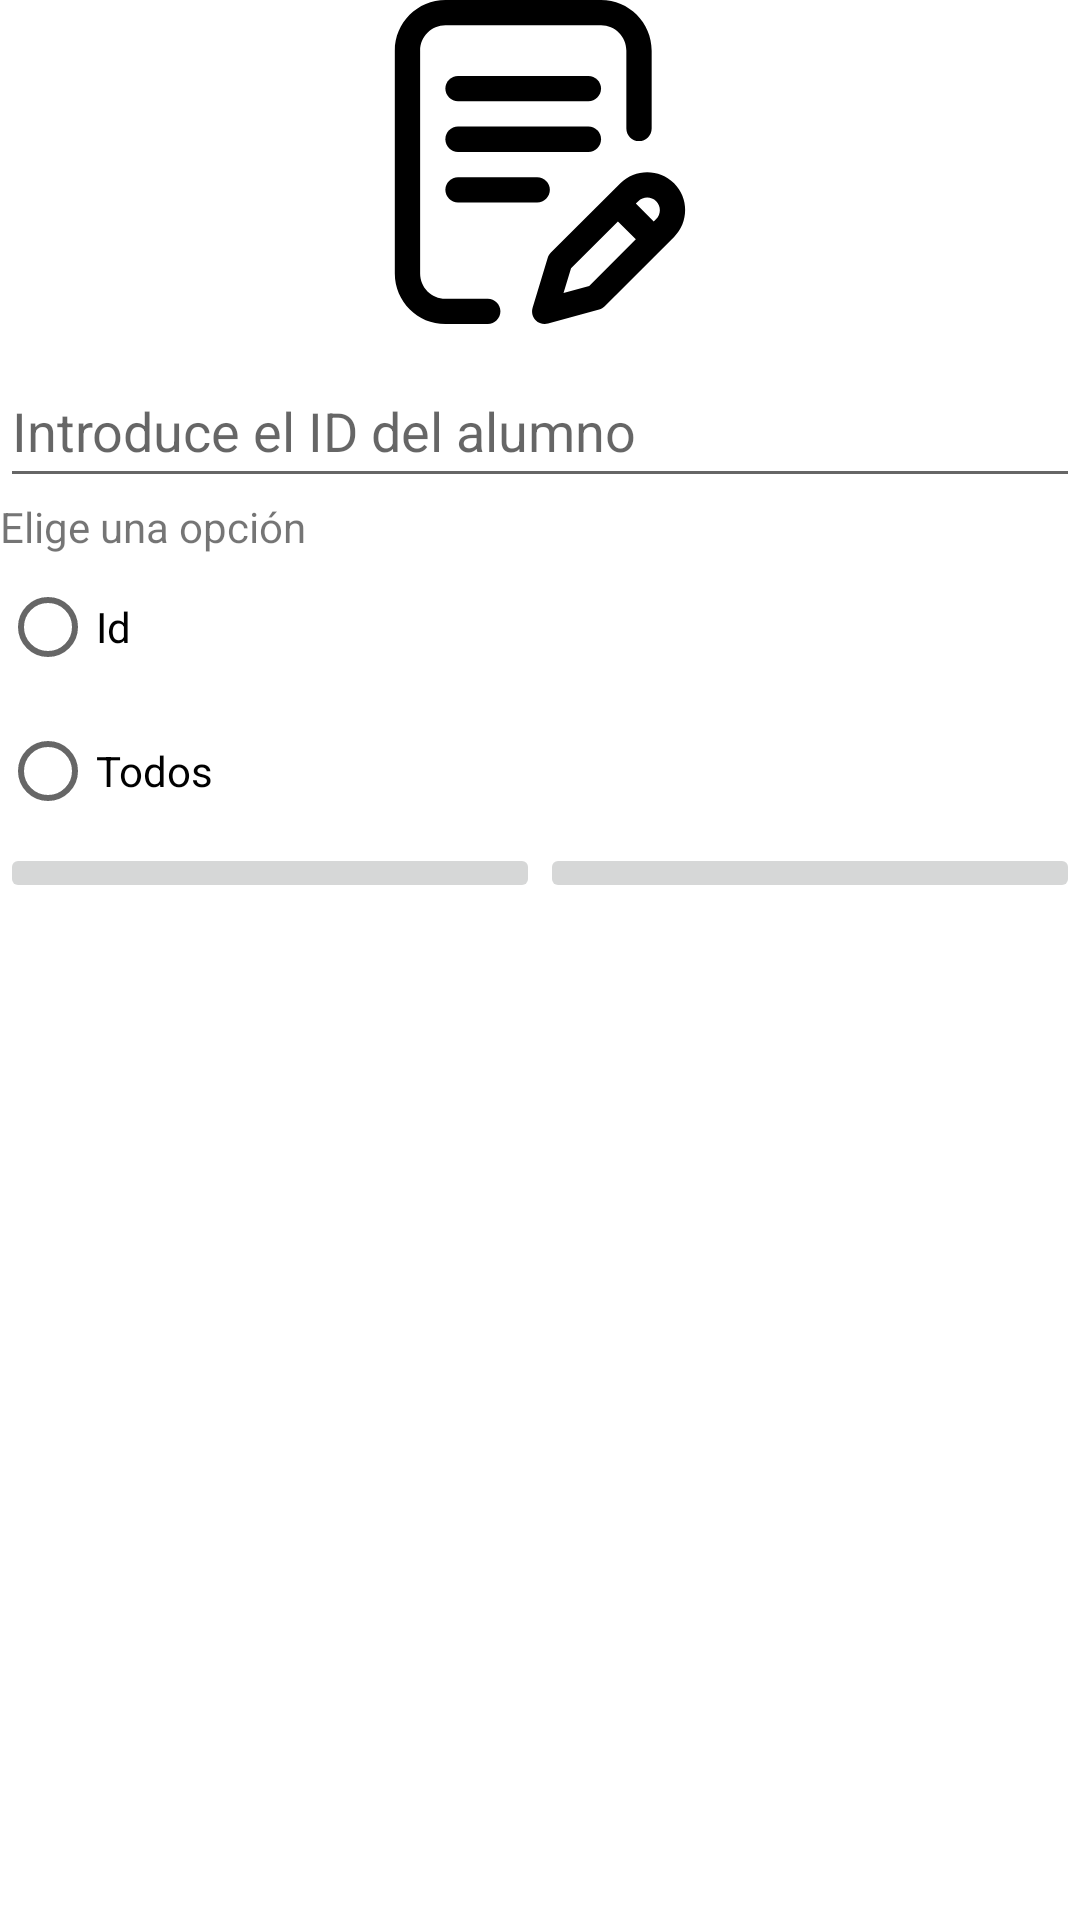

Icons on this 1080 × 1920 Android screen, each with the point to tap as point (x, y):
editar: point (540, 162)
